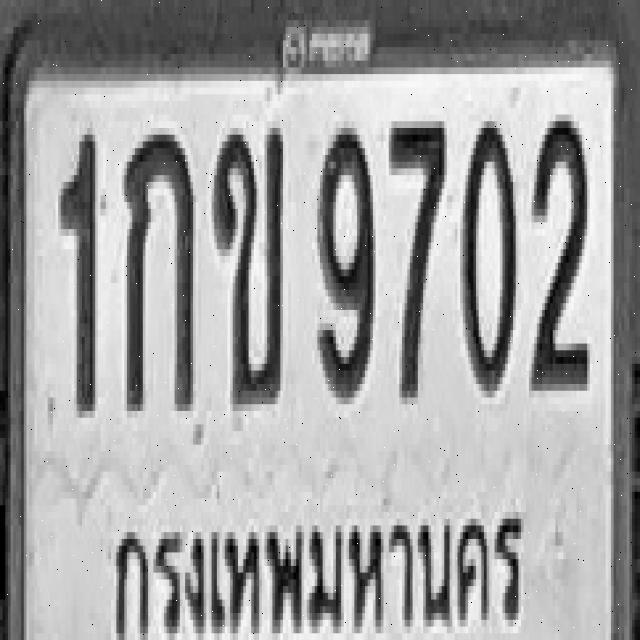0: (460, 114, 516, 390)
1: (58, 128, 95, 411)
10GorGai: (122, 128, 194, 411)
11KhorKhai: (212, 125, 284, 408)
2: (530, 114, 588, 390)
7: (388, 115, 444, 398)
9: (317, 121, 373, 398)
Bangkok: (106, 509, 538, 640)
